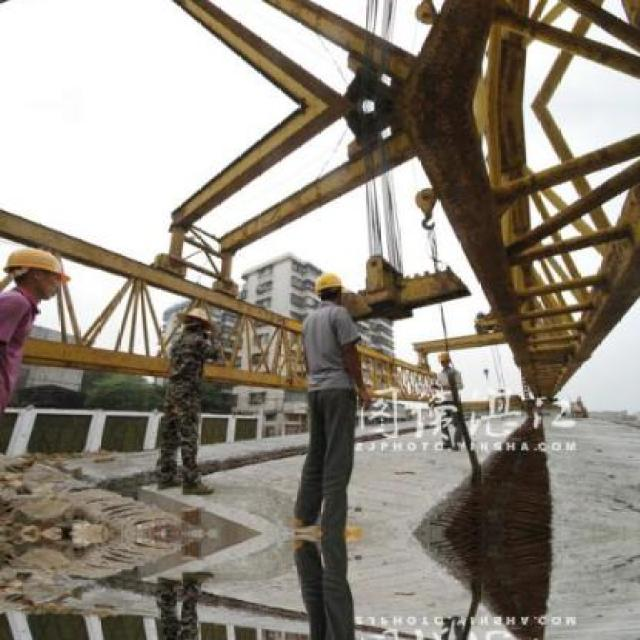helmet: (2, 245, 72, 282), (179, 308, 216, 329), (315, 274, 347, 292), (438, 351, 453, 364)
